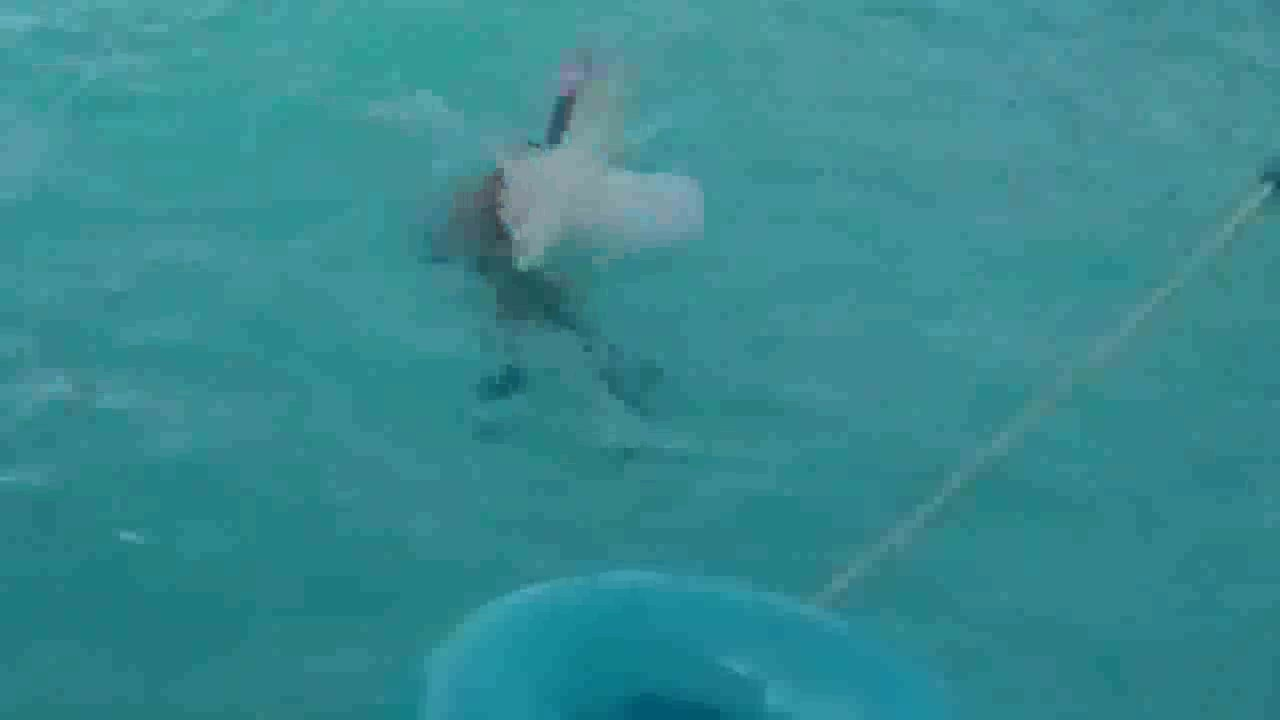Drowning: (422, 61, 711, 268)
